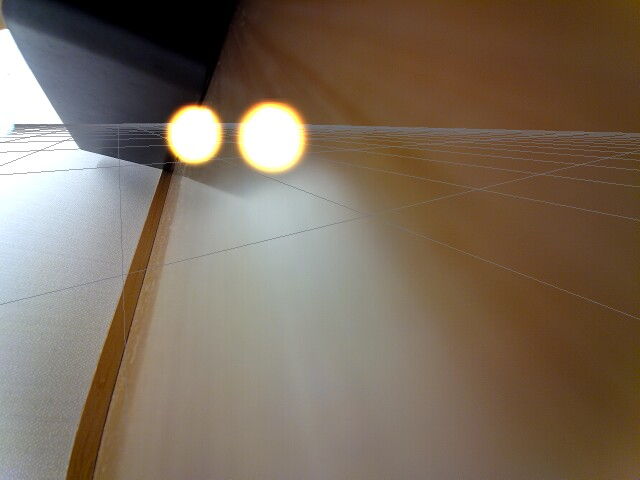firebig: (233, 94, 312, 179)
